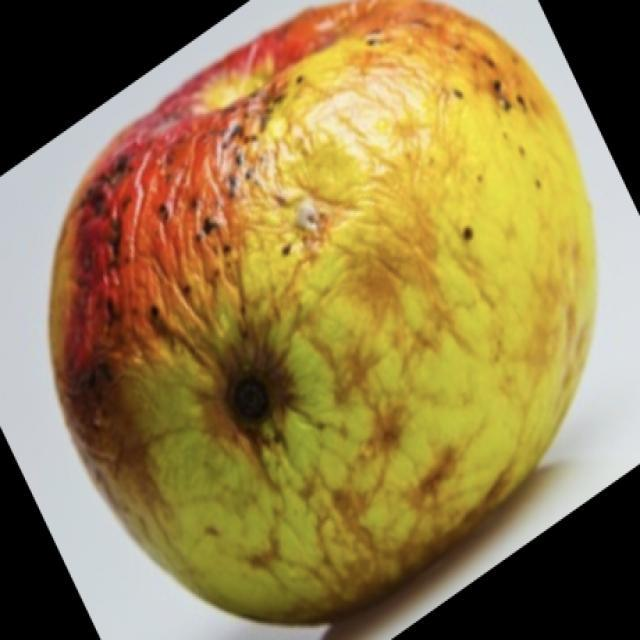Rotten: (53, 10, 595, 602)
